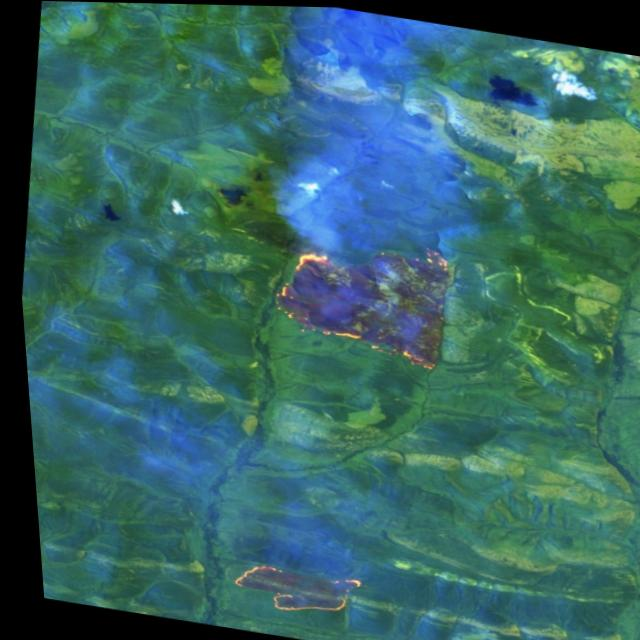fire: (251, 217, 461, 375), (213, 552, 359, 624)
